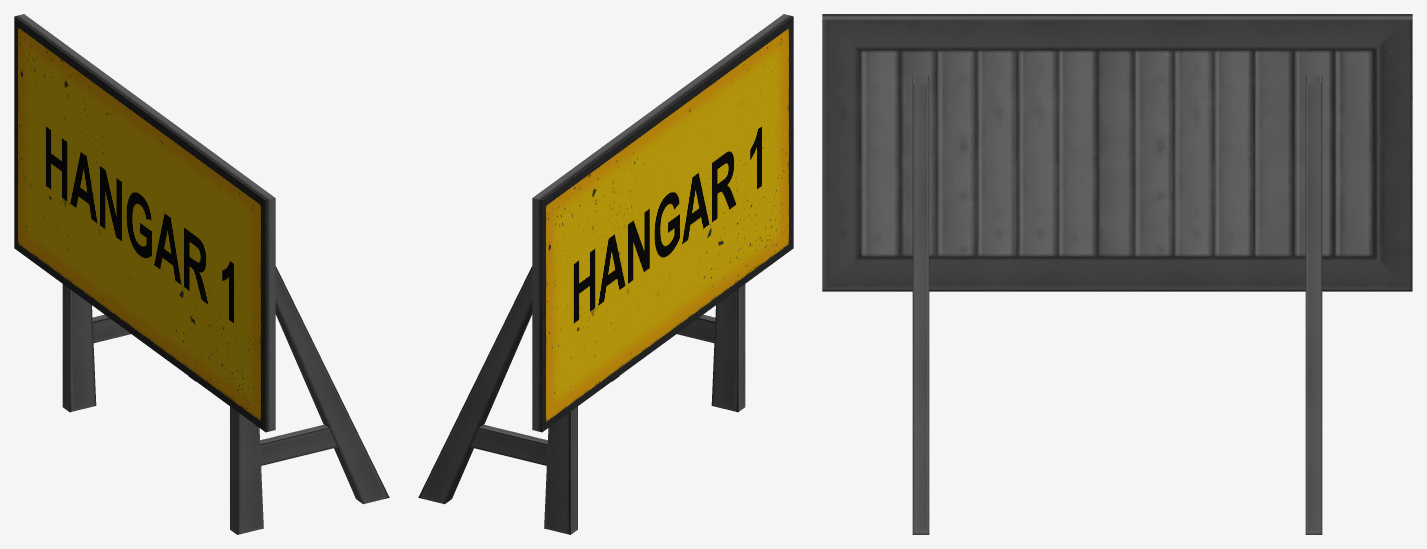
The model's file is Sign_Big_Var02.fbx.
The picture shows the model from 3 angles, left to right: view 1: azimuth 30°, elevation 25°; view 2: azimuth 150°, elevation 25°; view 3: azimuth 270°, elevation 25°; orthographic projection. The views are drawn at different scales.
Parts seen in each view (by area): view 1: Sign_Big_Var02; view 2: Sign_Big_Var02; view 3: Sign_Big_Var02.
Part boxes in pixels (<box>): Sign_Big_Var02: <box>14,14,389,534</box>; Sign_Big_Var02: <box>418,14,793,534</box>; Sign_Big_Var02: <box>822,14,1412,534</box>.
Size of the model in its own units: 12.31 by 26.44 by 33.03.
